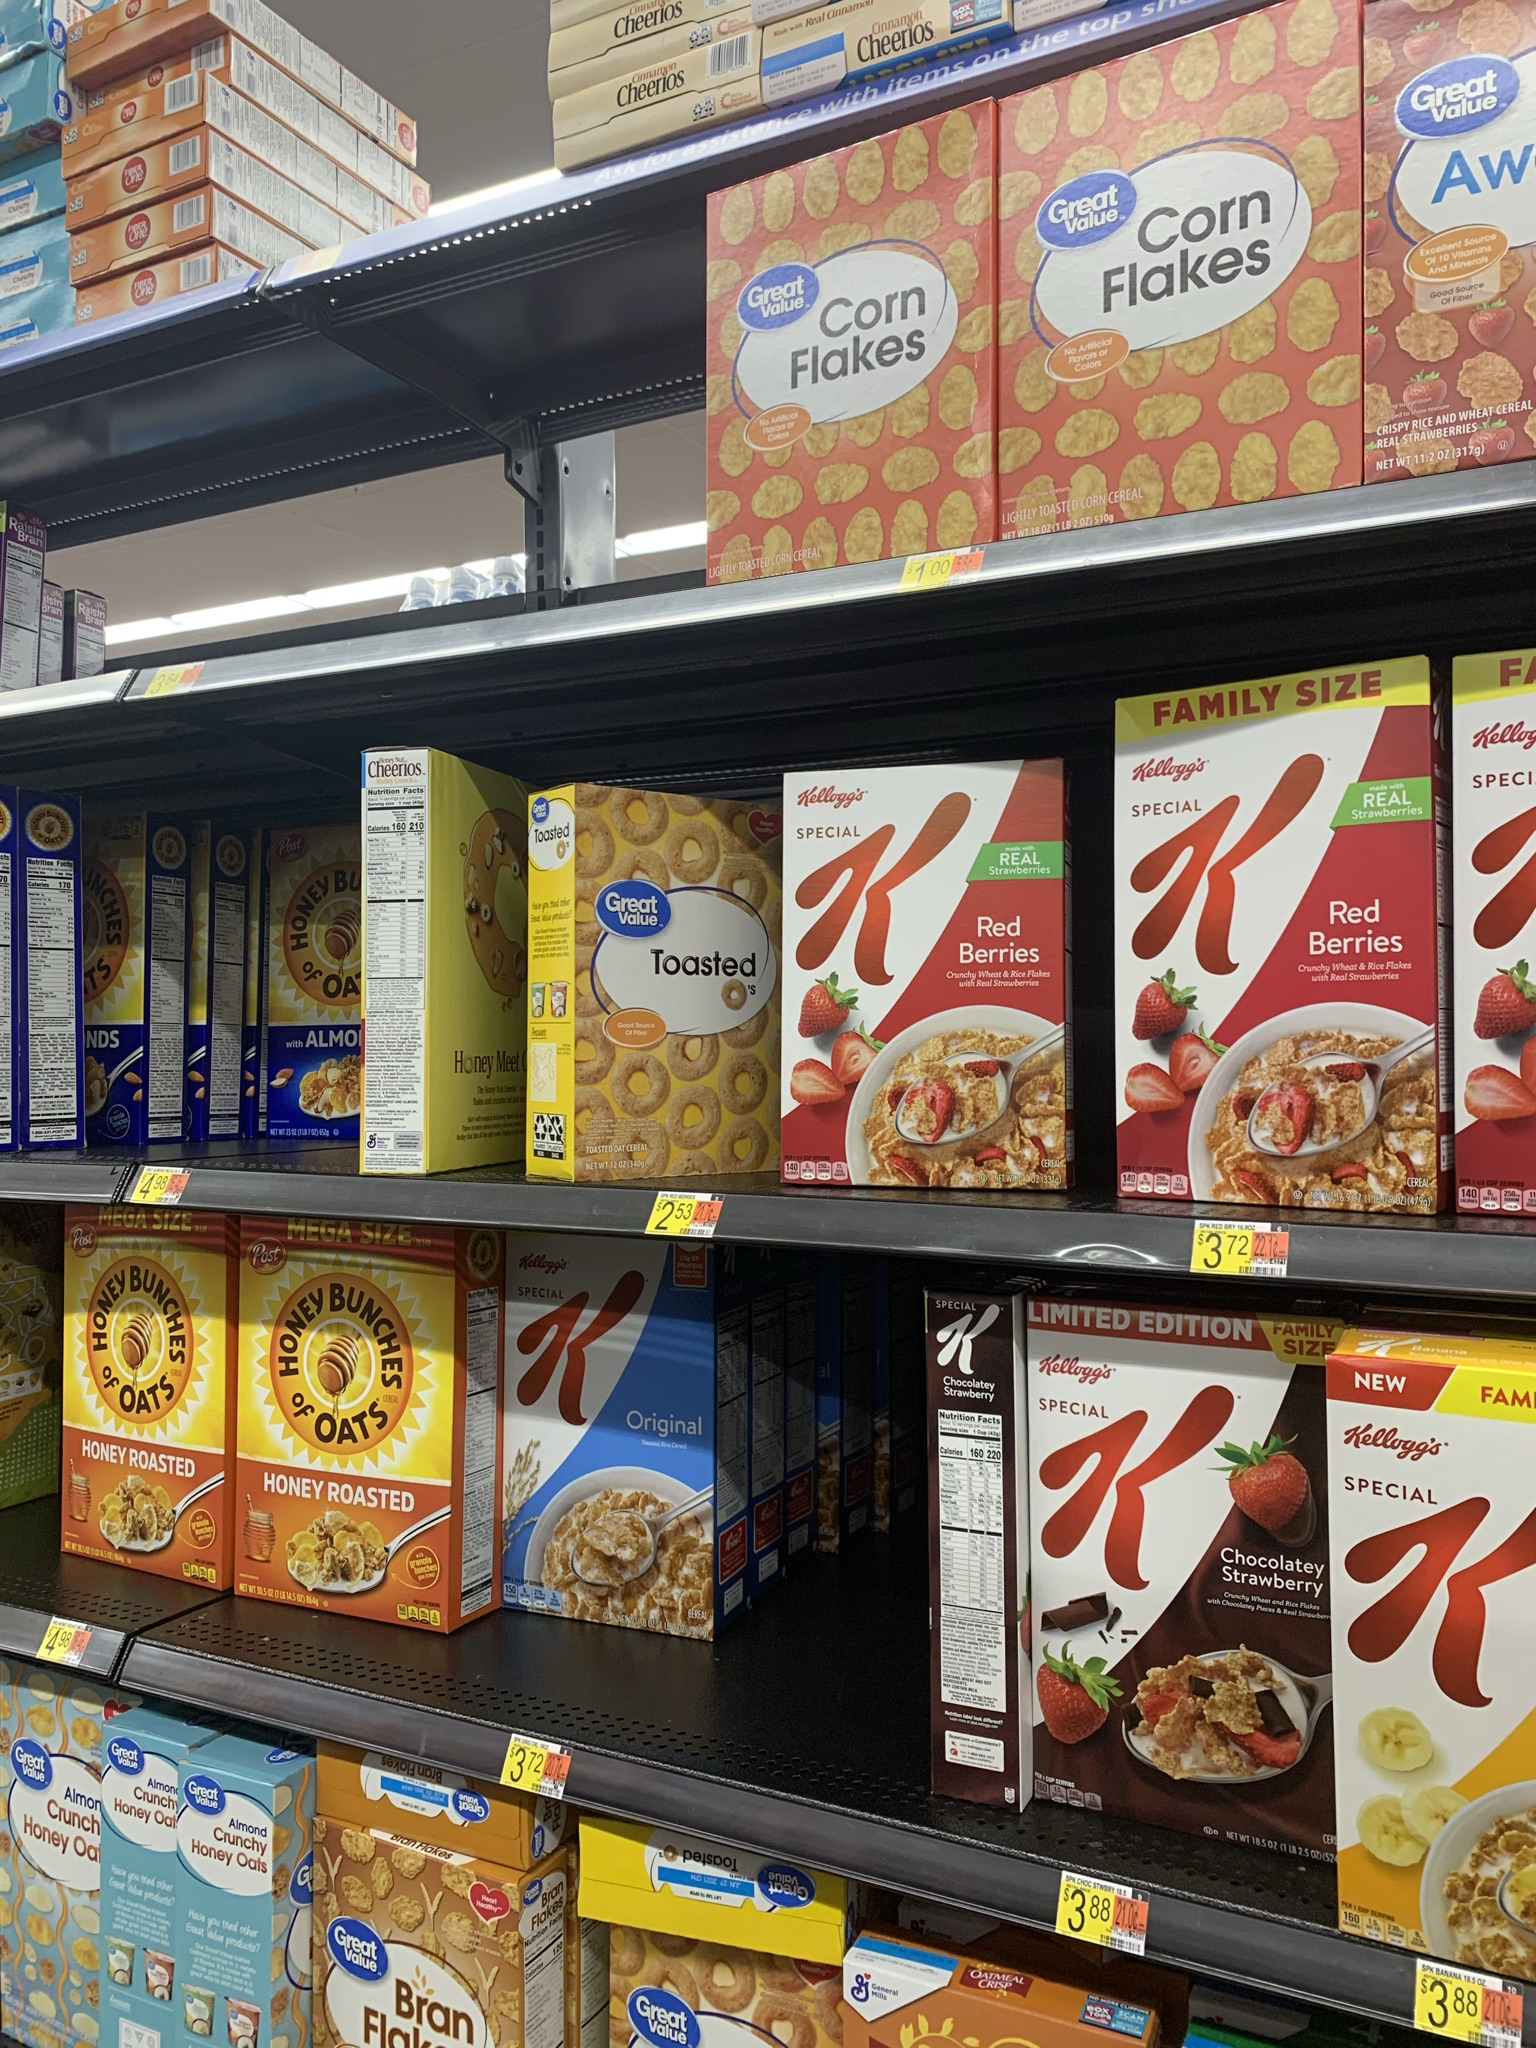box: (1037, 1309, 1329, 1840), (1131, 697, 1425, 1206), (1012, 108, 1341, 489), (1342, 1371, 1536, 1953), (800, 777, 1068, 1193), (529, 801, 774, 1168), (736, 189, 975, 543), (240, 1242, 453, 1606), (510, 1259, 707, 1617), (63, 1243, 223, 1550), (323, 1853, 511, 2048)
